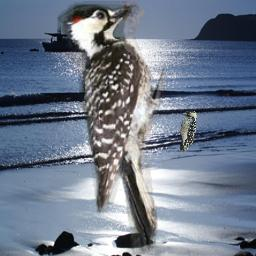Woodpecker: (54, 1, 175, 254), (180, 110, 197, 151)
